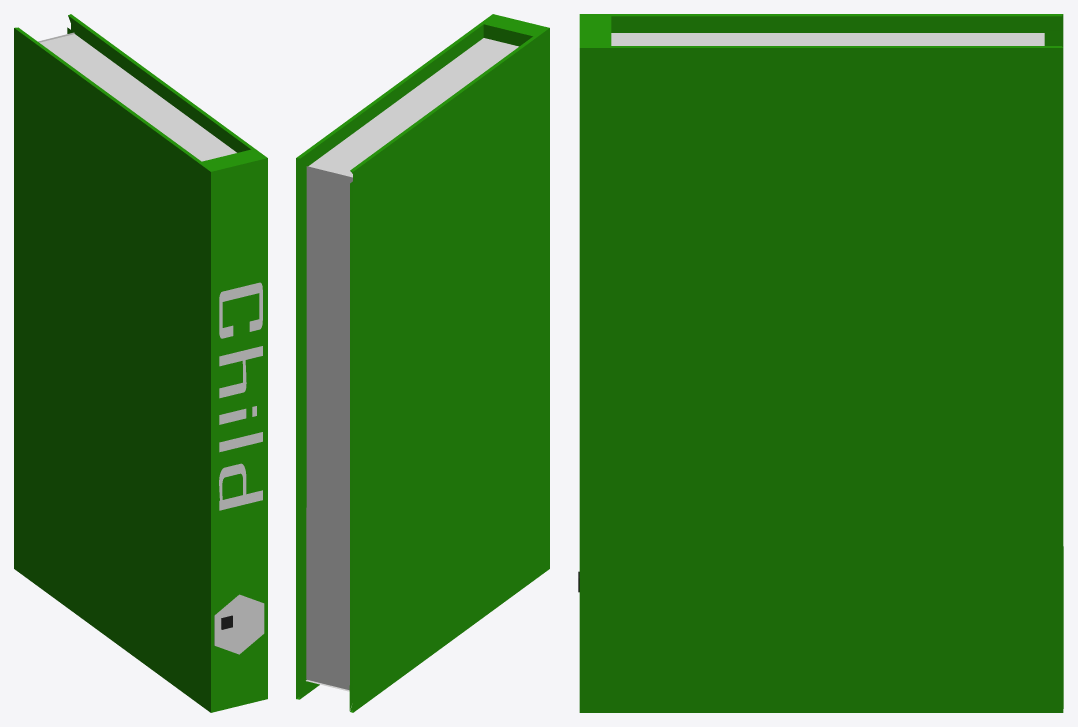
Rendered from Book_Child.fbx.
3 renders of one model, left to right at view 1: azimuth 30°, elevation 25°; view 2: azimuth 150°, elevation 25°; view 3: azimuth 270°, elevation 25°, orthographic. The views are drawn at different scales.
Parts seen in each view (by area): view 1: Book, Text, Cylinder; view 2: Book; view 3: Book.
Part boxes in pixels (x1,y1,x2,y2): Book: (14, 14, 267, 712); Text: (219, 282, 262, 510); Cylinder: (214, 594, 264, 654); Book: (296, 14, 549, 712); Book: (579, 14, 1063, 712).
Bounding box in the file's own units: 6.67 × 60.59 × 40.09.
